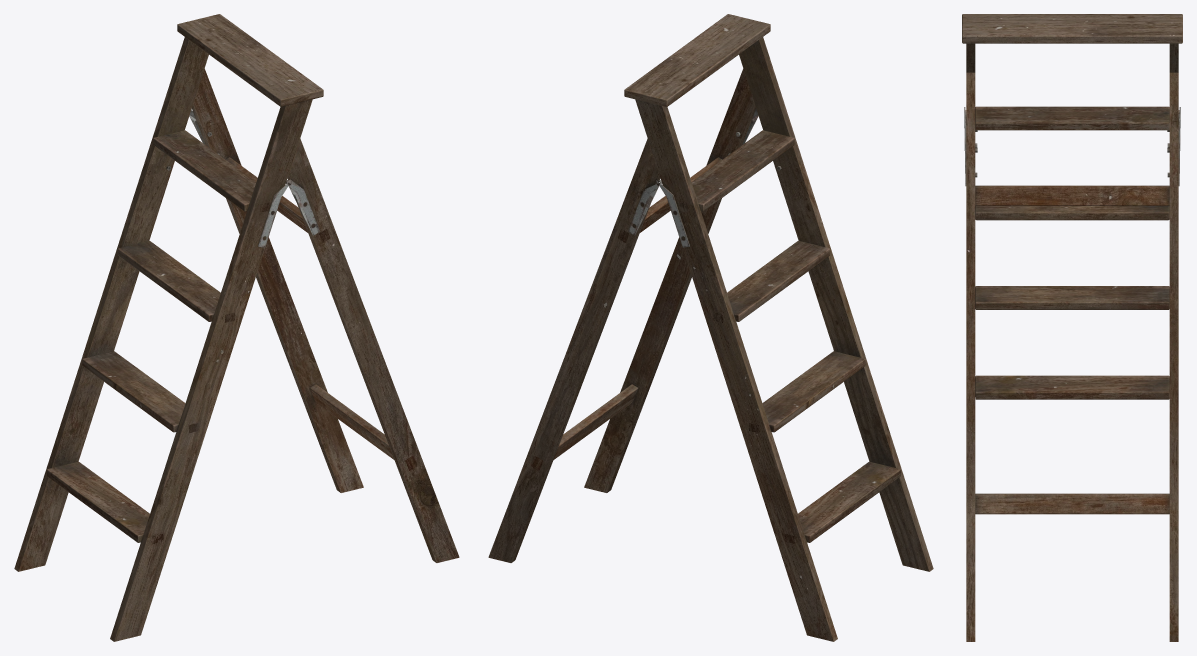
Rendered from ladder-lod.glb.
The picture shows the model from 3 angles, left to right: view 1: azimuth 30°, elevation 25°; view 2: azimuth 150°, elevation 25°; view 3: azimuth 270°, elevation 25°; orthographic projection. The views are drawn at different scales.
Parts seen in each view (by area): view 1: wooden_ladder_steps, wooden_ladder_supports; view 2: wooden_ladder_steps, wooden_ladder_supports; view 3: wooden_ladder_steps, wooden_ladder_supports.
Boxes of the visible parts, x1,y1,x2,y2 form: wooden_ladder_steps: (14,14,323,641); wooden_ladder_supports: (189,68,459,562); wooden_ladder_steps: (624,14,933,641); wooden_ladder_supports: (488,68,758,562); wooden_ladder_steps: (962,14,1182,399); wooden_ladder_supports: (964,72,1180,641).
Size of the model in its own units: 0.9591 by 1.33 by 0.5.
1 material, 1 textured.
